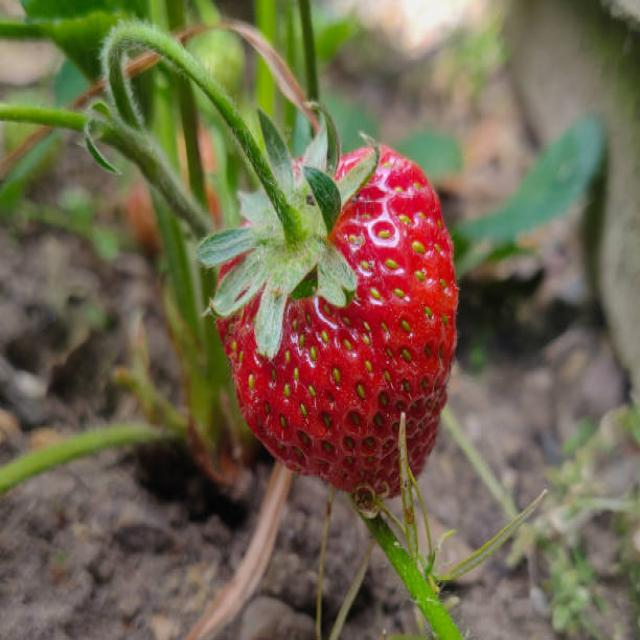Healthy Fruit: (213, 145, 457, 495)
